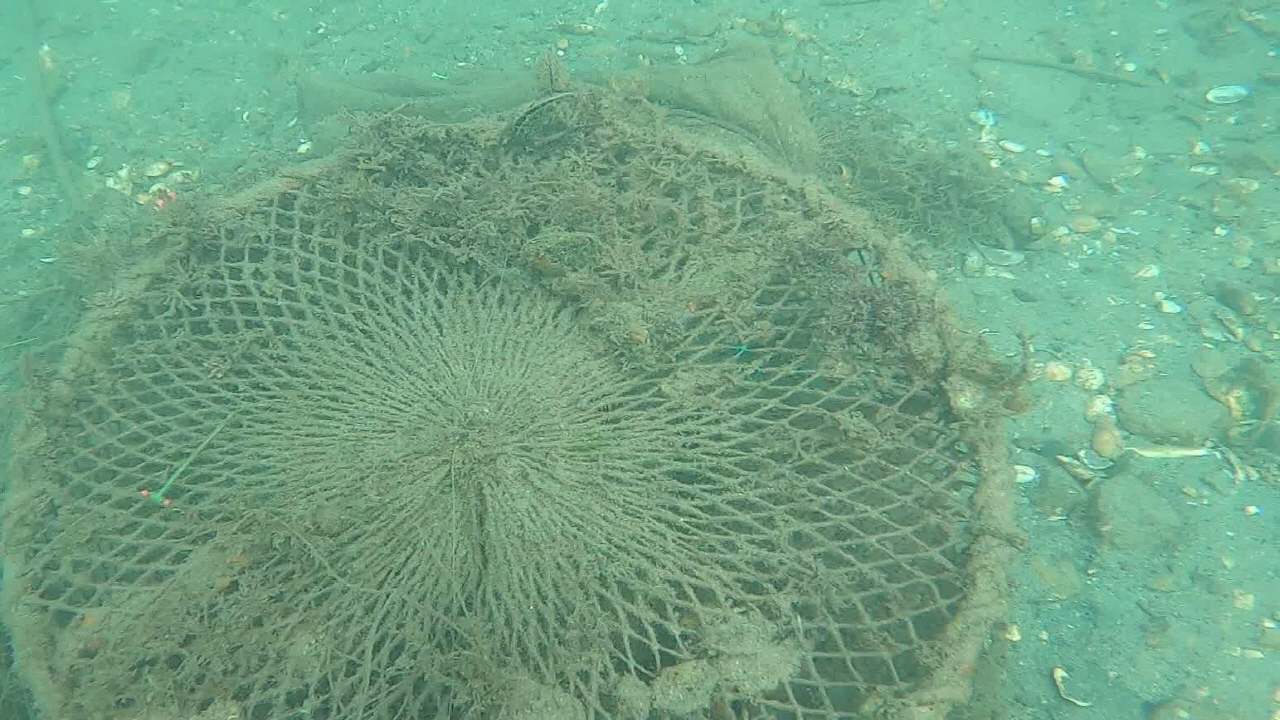circular fish trap: (0, 108, 1019, 720)
